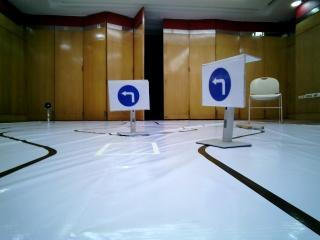left: (204, 63, 243, 101), (111, 80, 142, 111)
